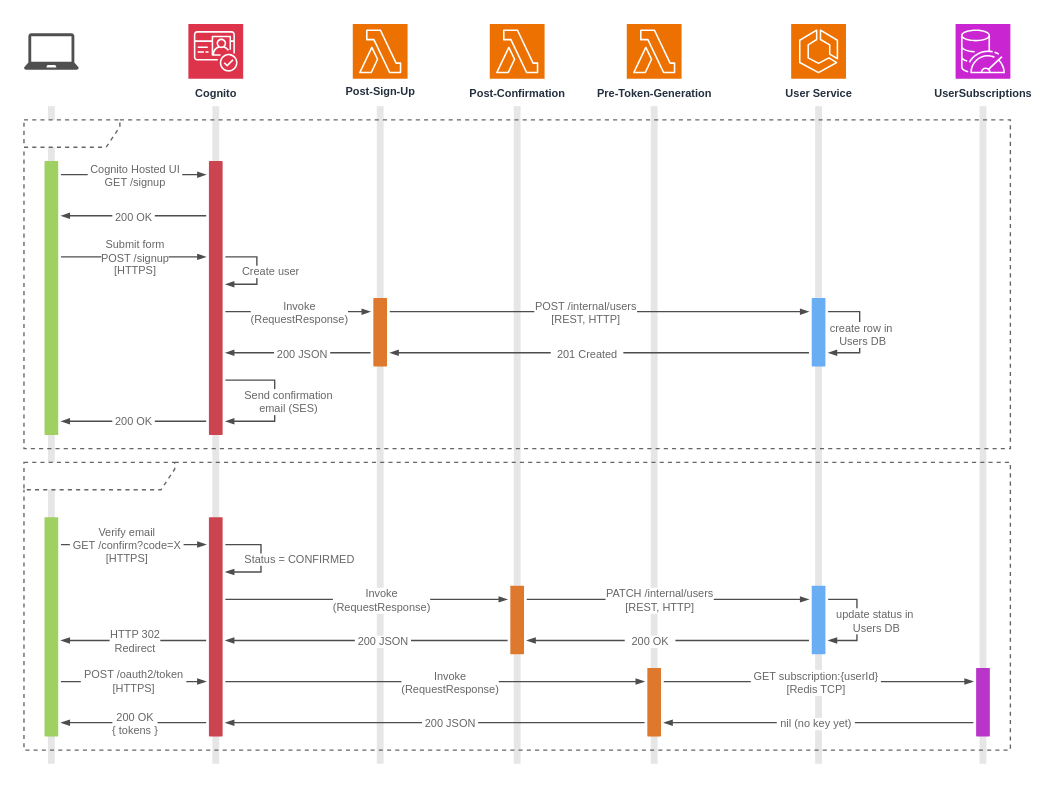
This 1055x788 diagram has some shape labels left out. Each missing label, with the box of its shape:
Browser: (23, 32, 78, 69)
Email Confimation: (23, 461, 1010, 750)
Sign-up: (23, 119, 1010, 449)
